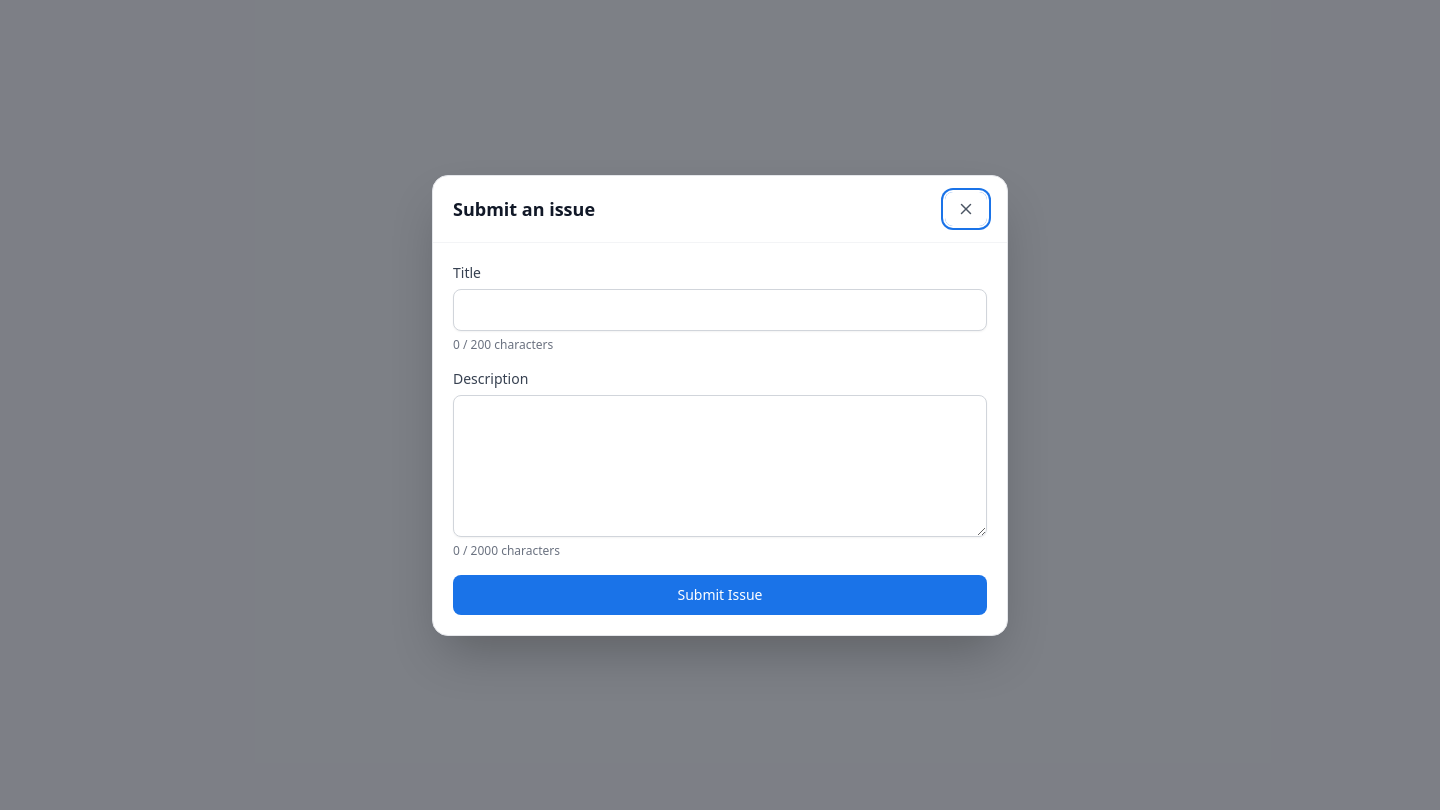
Test: SubmitIssueModal › shows inline errors and does not call the API for invalid fields
Click the button "Submit Issue" at (720, 594), box [453,574,987,614]
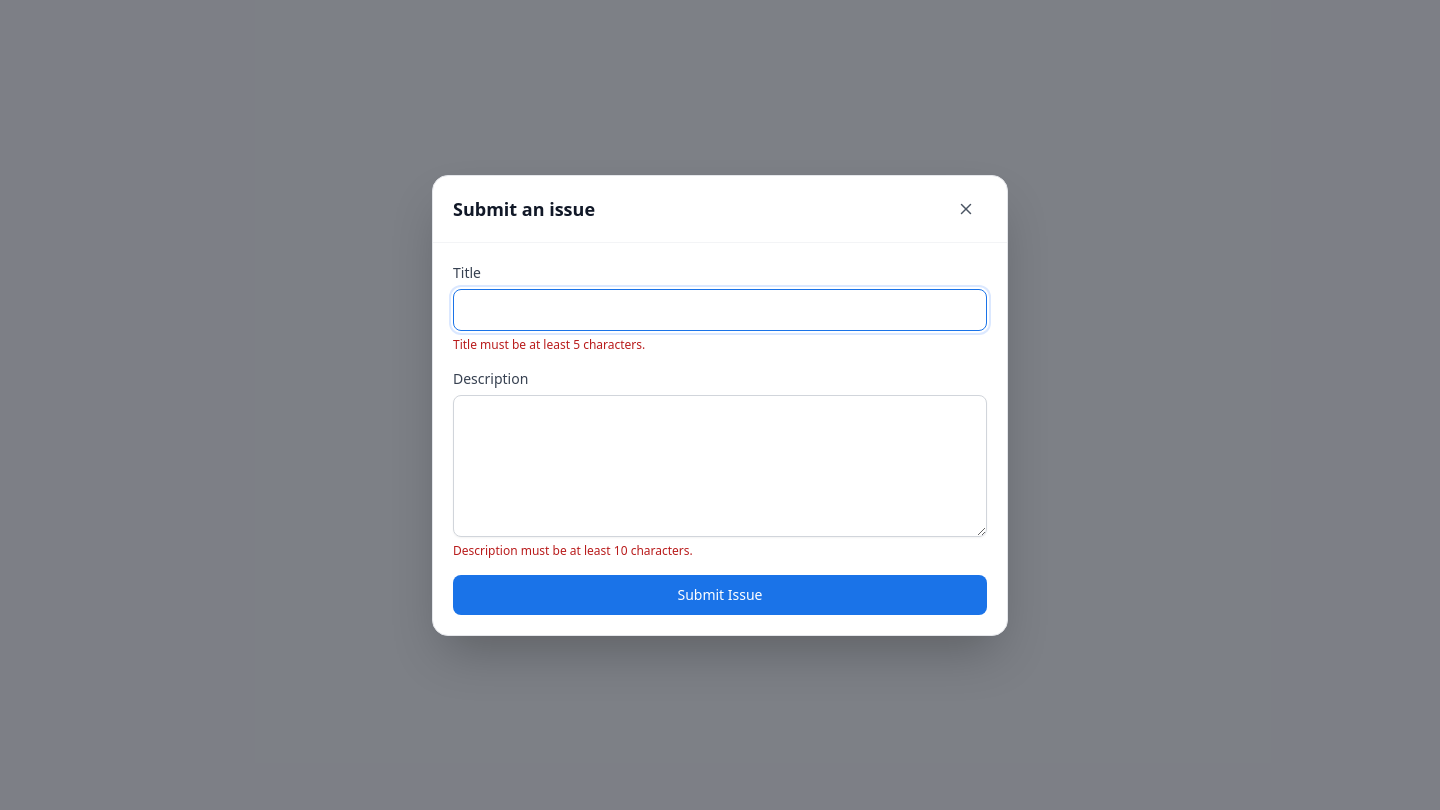
Expected: the text "Title must be at least 5 characters." is shown, [453,336,645,352]
Expected: the text "Description must be at least 10 characters." is shown, [453,542,693,558]
